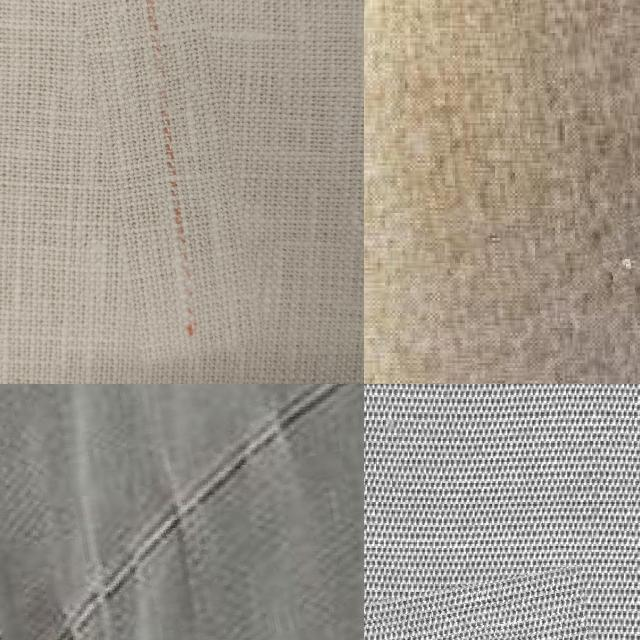Thread_other: (0, 384, 364, 640), (83, 0, 248, 363), (364, 576, 603, 640)
seam: (585, 206, 640, 306)
